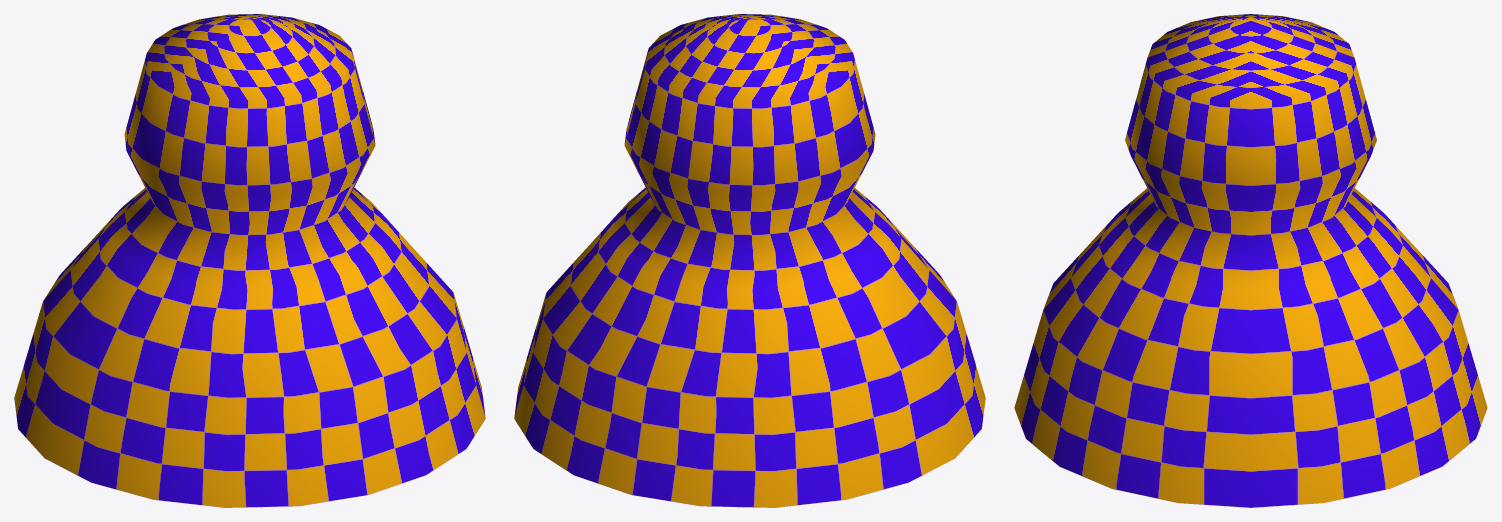
The model's file is ToqueTest_UVadjust.fbx.
3 renders of one model, left to right at view 1: azimuth 30°, elevation 25°; view 2: azimuth 150°, elevation 25°; view 3: azimuth 270°, elevation 25°, orthographic.
Parts seen in each view (by area): view 1: pCylinder2; view 2: pCylinder2; view 3: pCylinder2.
Part boxes in pixels (x1=…): pCylinder2: x1=14, y1=14, x2=485, y2=507; pCylinder2: x1=514, y1=14, x2=985, y2=507; pCylinder2: x1=1014, y1=14, x2=1487, y2=507.
Size of the model in its own units: 14.4 by 13.03 by 14.4.
